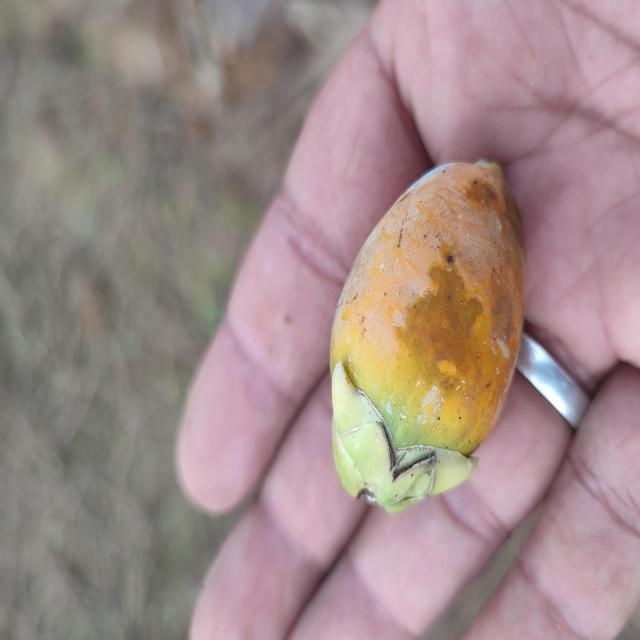good: (328, 161, 525, 516)
